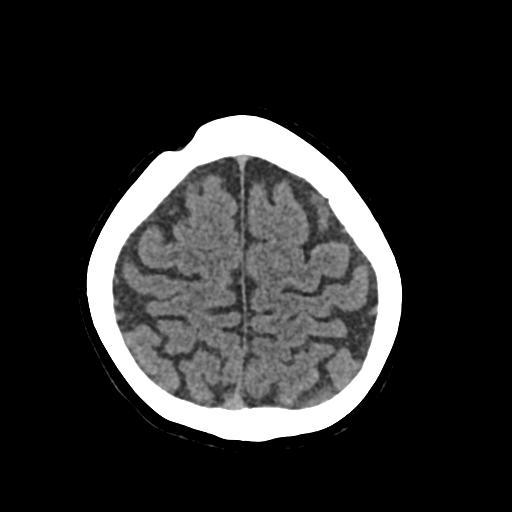Normal_Brain: (28, 78, 457, 512)
